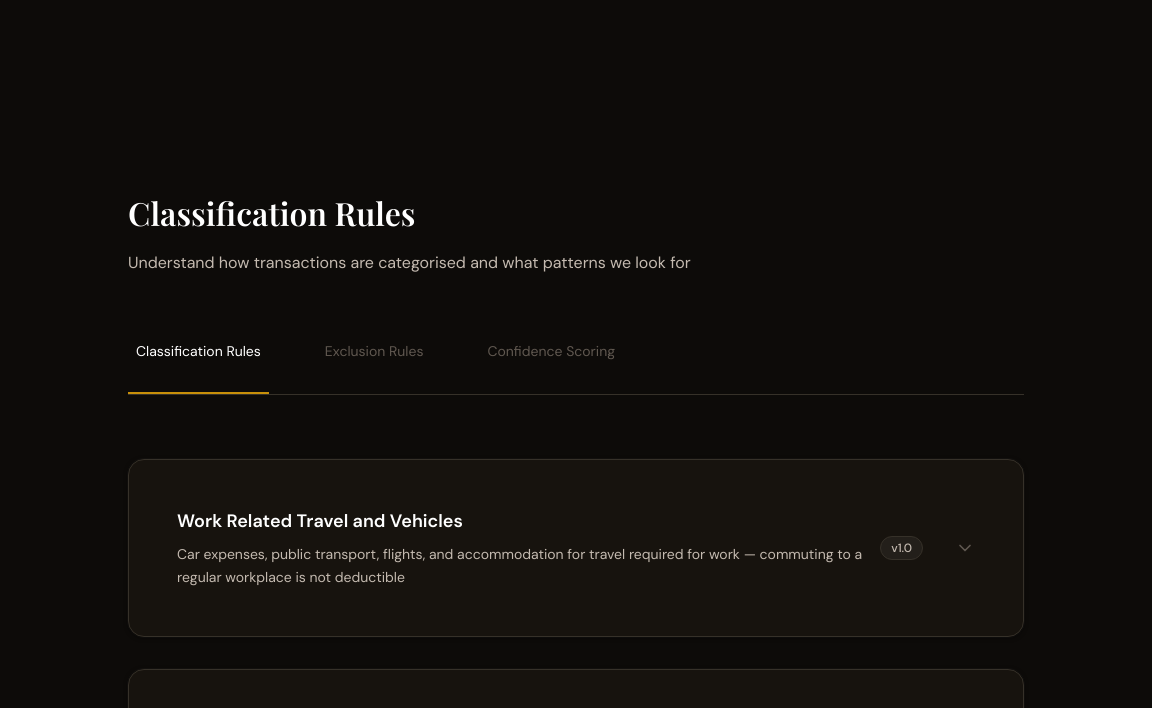
Scenario: Rules Page › switches to confidence scoring tab
Click the button "Confidence Scoring" at (551, 367), box 480,340 -> 623,394
(page scrolled)
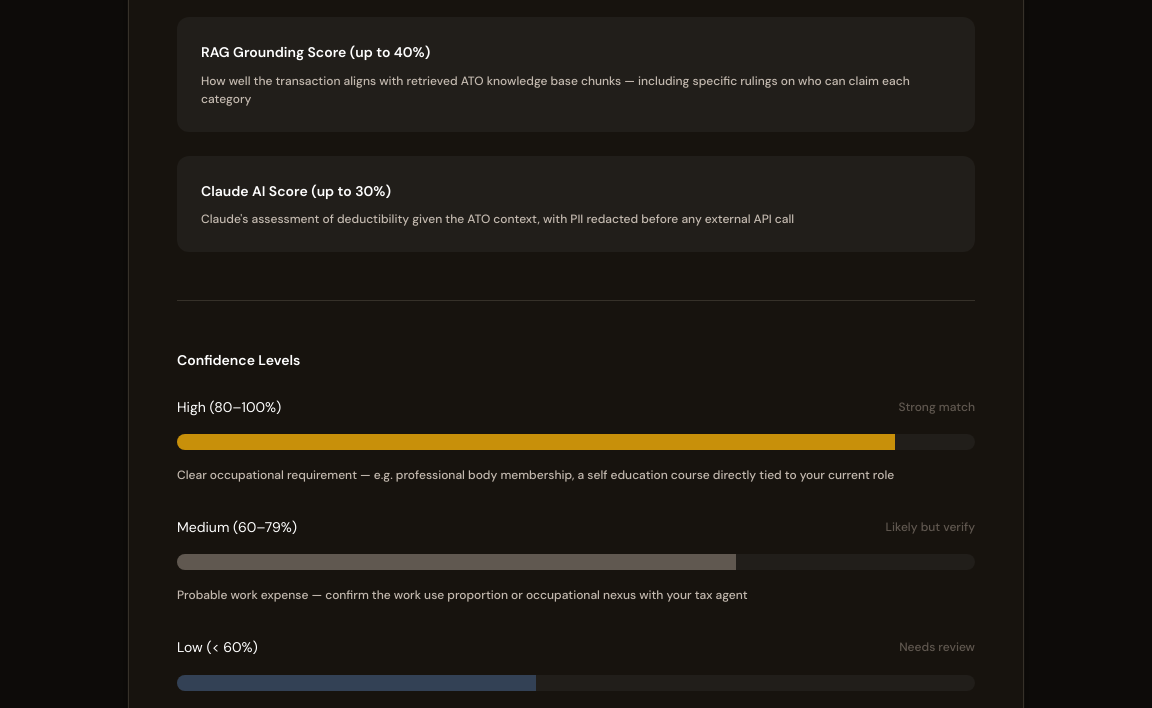
Expected: the heading "Confidence Levels" is shown, 177,351 -> 300,369
